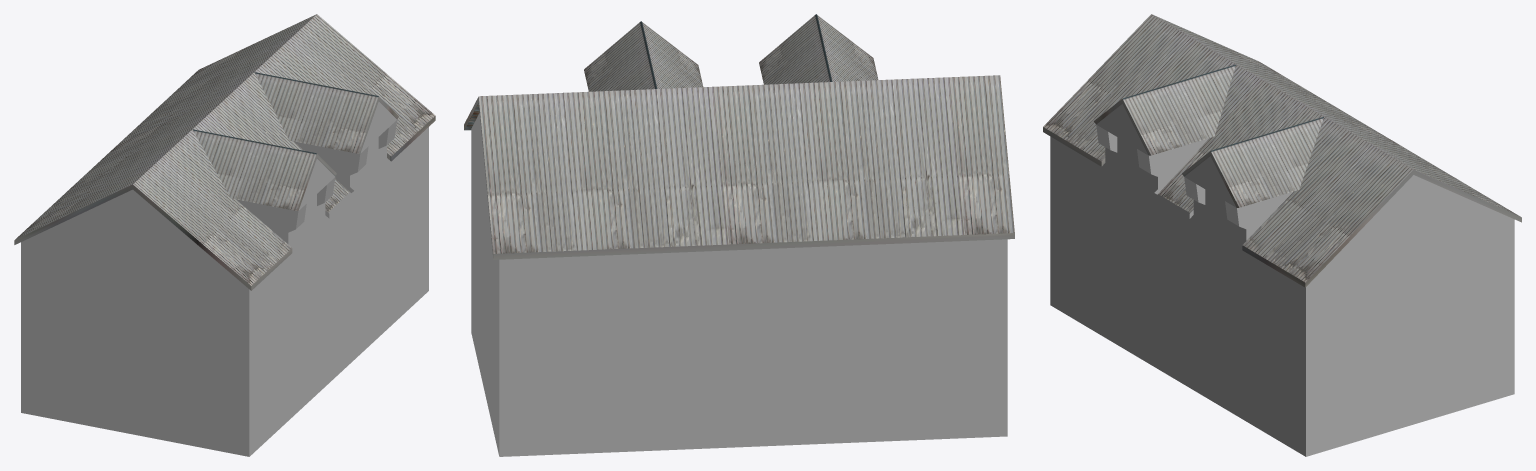
The model's file is SM_GenericBuilding_14.fbx.
3 views of the same model, side by side, from view 1: azimuth 30°, elevation 25°; view 2: azimuth 150°, elevation 25°; view 3: azimuth 270°, elevation 25° (orthographic). The views are drawn at different scales.
Parts seen in each view (by area): view 1: SM_GenericBuilding_14; view 2: SM_GenericBuilding_14; view 3: SM_GenericBuilding_14.
Part boxes in pixels (<box>): SM_GenericBuilding_14: <box>14,14,435,456</box>; SM_GenericBuilding_14: <box>464,14,1014,456</box>; SM_GenericBuilding_14: <box>1043,14,1521,456</box>.
Bounding box in the file's own units: 722 × 393 × 662.
